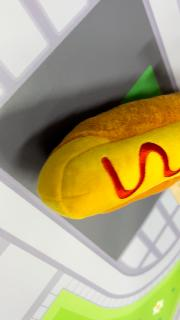hotdog: (36, 91, 180, 220)
